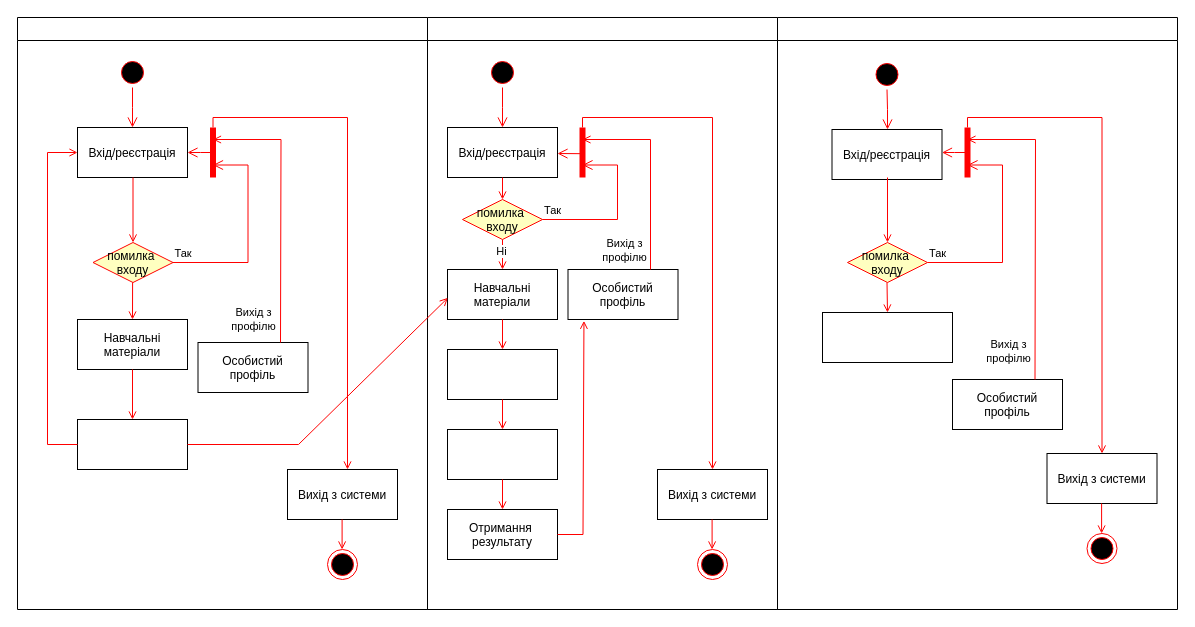
This 1195x627 diagram has some shape labels left out. Here are the shapes that lost their labels. From the top down, the box of each, then its label:
(16, 16, 428, 610): Вчитель
(426, 16, 778, 610): Учень
(776, 16, 1178, 610): Адміністратор
(822, 312, 952, 362): Перегляд/редагування бази даних
(446, 348, 558, 400): Вивчення теми
(76, 418, 188, 470): Створення теми з навчальною інформацією
(446, 428, 558, 480): Проходження тестування
